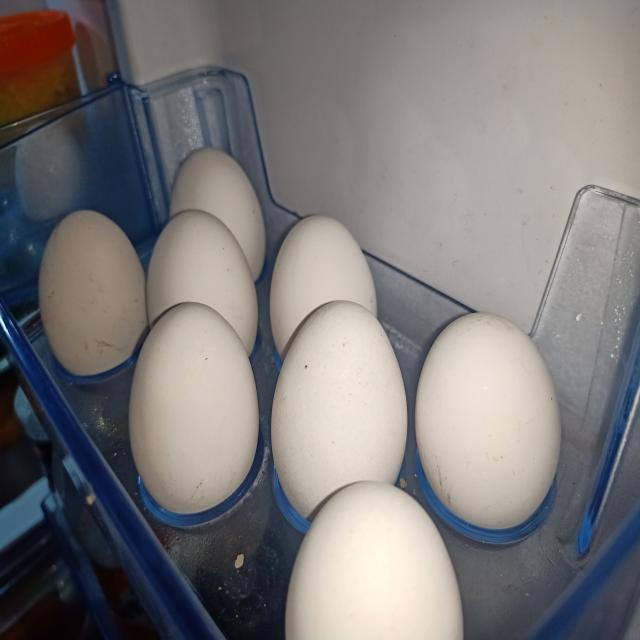Egg: (413, 310, 589, 537), (268, 300, 412, 529), (123, 301, 268, 526), (276, 480, 476, 640), (32, 195, 146, 376), (268, 206, 383, 369), (146, 206, 262, 361), (170, 141, 271, 289)
